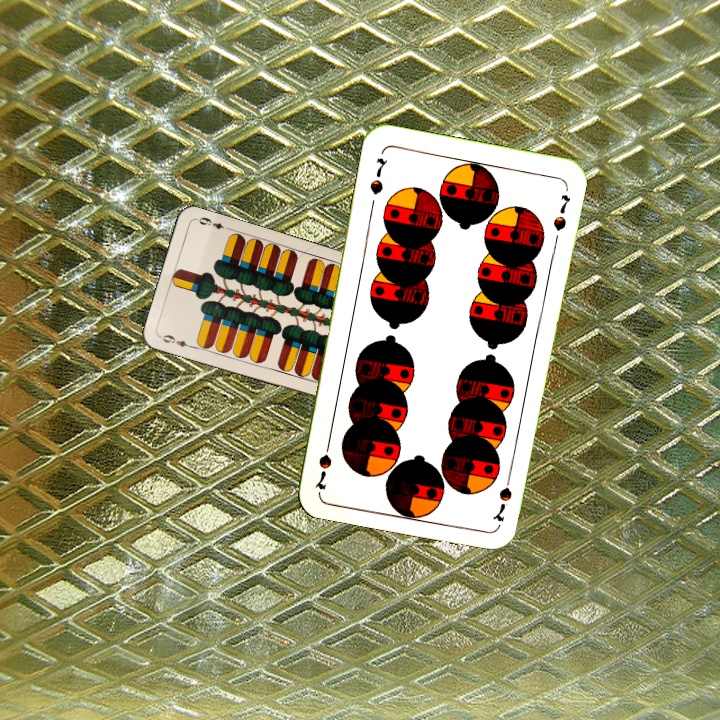E9: (156, 330, 196, 351)
S7: (489, 467, 515, 525), (365, 154, 390, 197)
